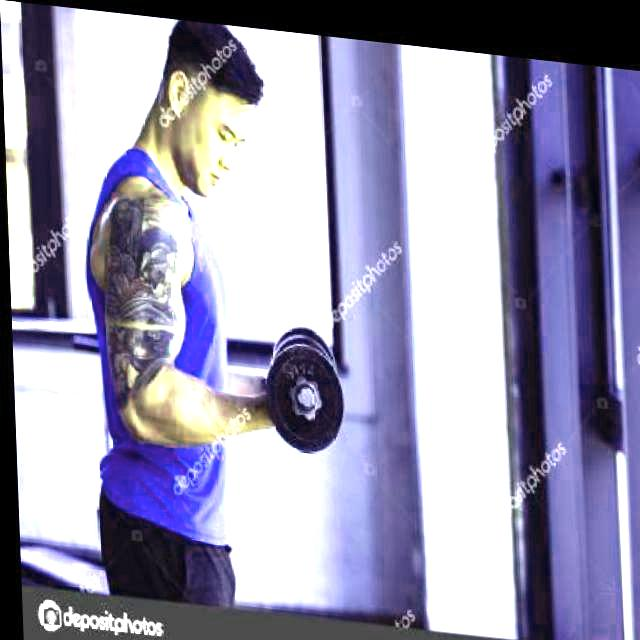barbell: (262, 332, 347, 452)
